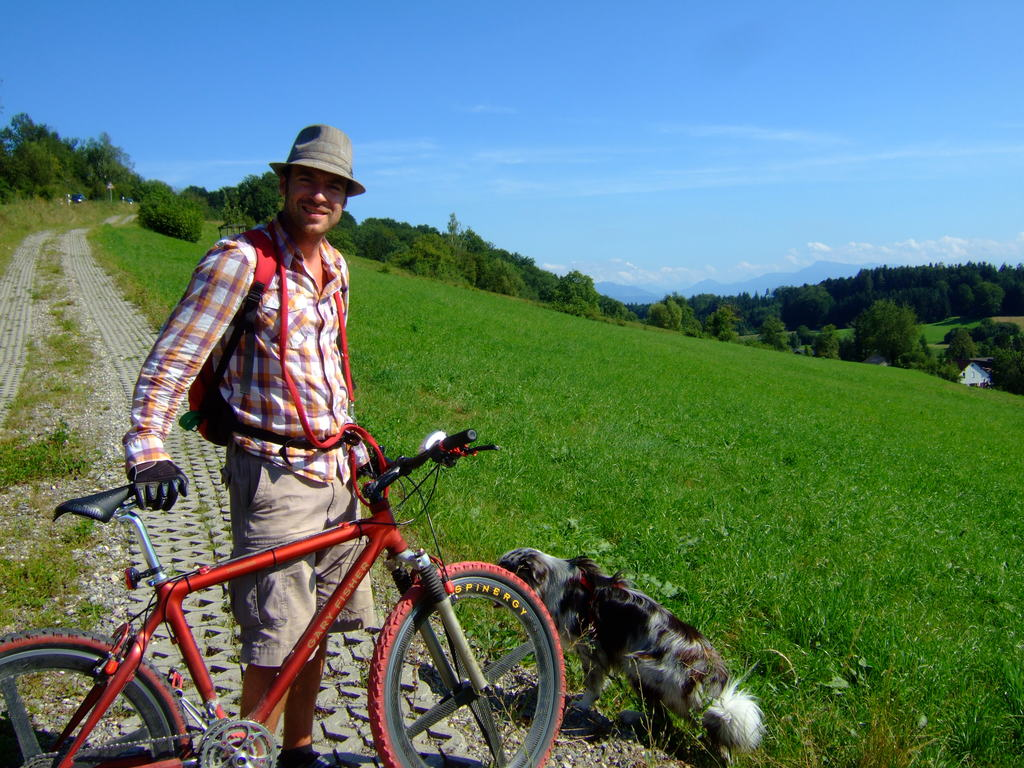Bike: (63, 446, 559, 768)
